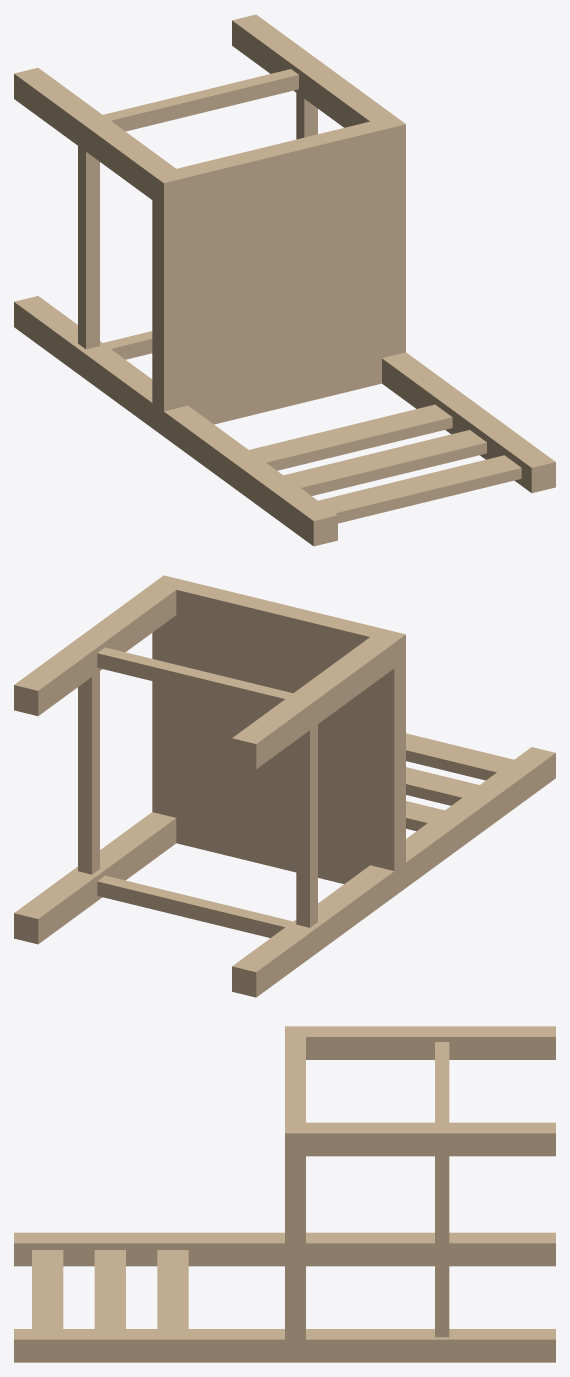
File: chair.glb
3 renders of one model, top to bottom at view 1: azimuth 30°, elevation 25°; view 2: azimuth 150°, elevation 25°; view 3: azimuth 270°, elevation 25°, orthographic. The views are drawn at different scales.
Parts seen in each view (by area): view 1: wood; view 2: wood; view 3: wood.
Boxes of the visible parts, left/top/right/bottom form: wood: left=14, top=14, right=555, bottom=546; wood: left=14, top=575, right=555, bottom=997; wood: left=14, top=1026, right=555, bottom=1362.
Bounding box in the file's own units: 0.42 × 0.42 × 0.9.
